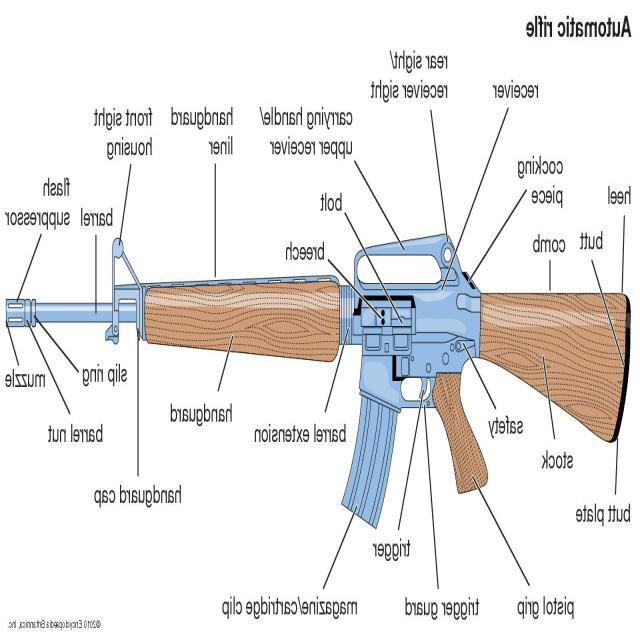rifle: (1, 235, 629, 509)
